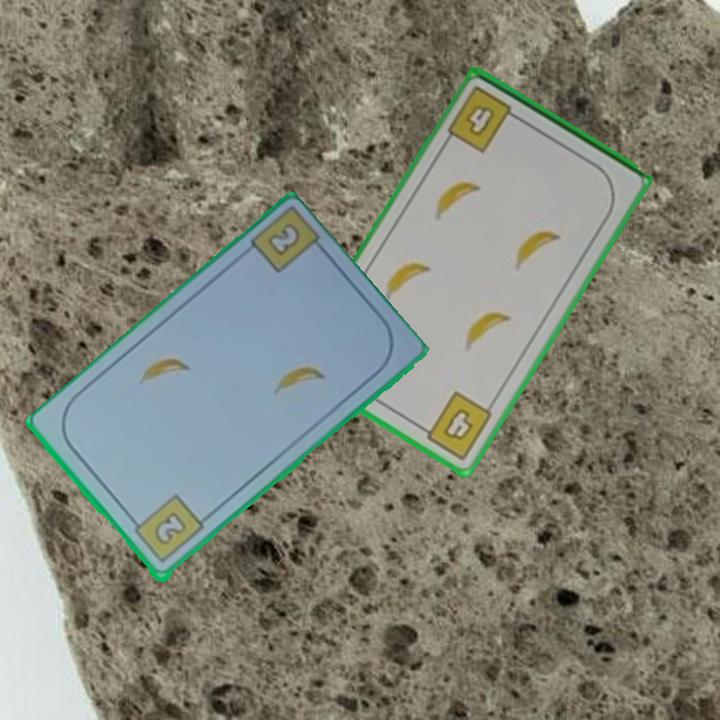2b: (126, 491, 207, 567), (263, 219, 304, 260)
4b: (415, 388, 496, 464), (443, 82, 525, 156)
